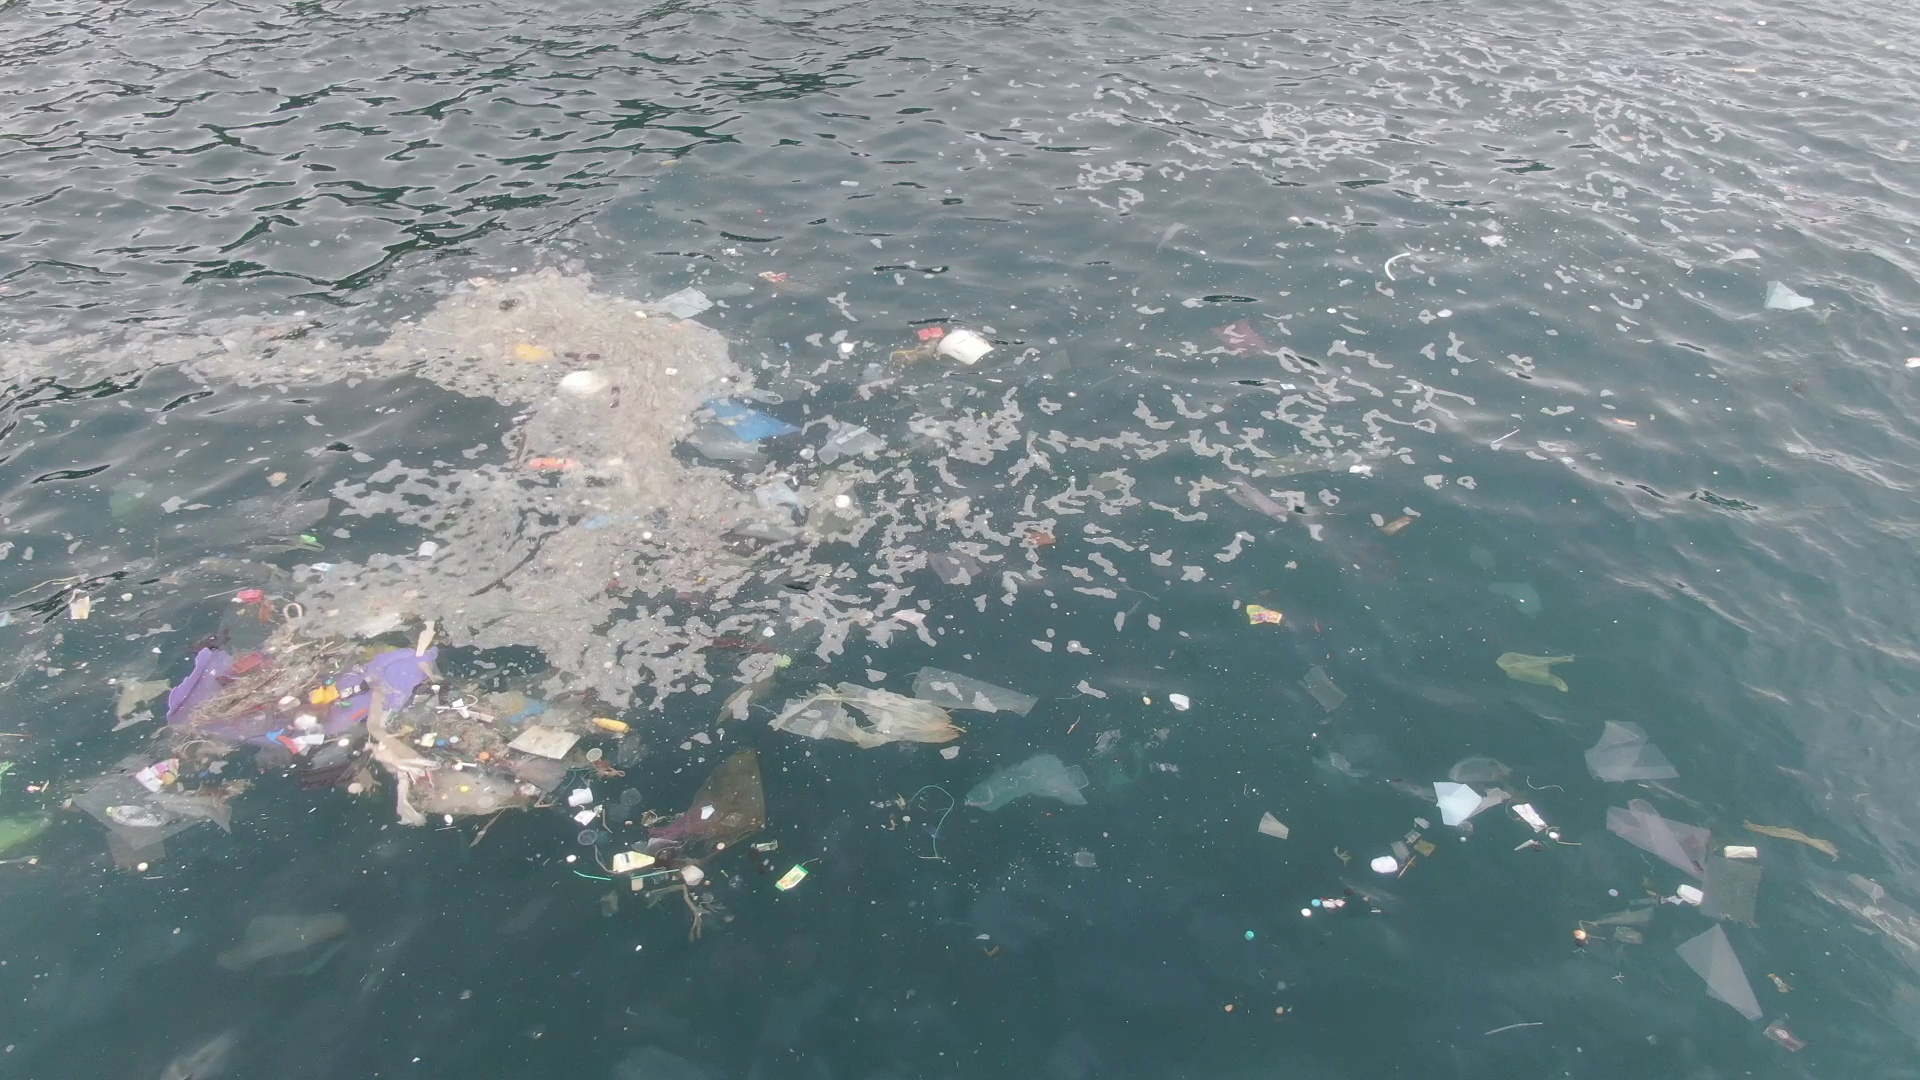garbage: (70, 613, 812, 931), (1586, 723, 1766, 1025), (775, 670, 1089, 811), (506, 347, 804, 479), (1371, 756, 1564, 881), (109, 479, 327, 563), (651, 270, 787, 320), (889, 320, 998, 376), (1498, 651, 1575, 694), (1762, 280, 1815, 313), (1246, 601, 1280, 626)
